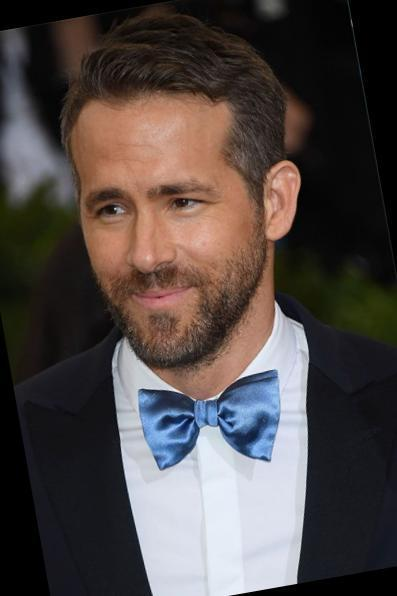Sober: (75, 102, 247, 330)
